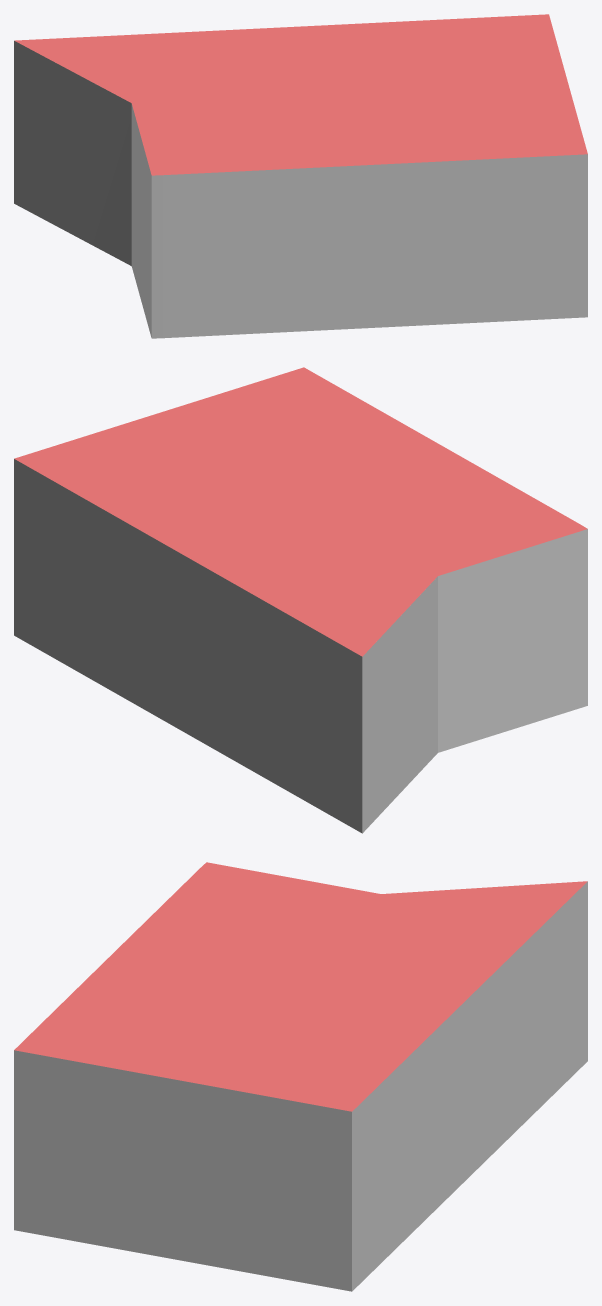
File: DEBY_LOD2_4908042.gltf
3 views of the same model, one above another, from view 1: azimuth 30°, elevation 25°; view 2: azimuth 150°, elevation 25°; view 3: azimuth 270°, elevation 25° (orthographic). The views are drawn at different scales.
Parts seen in each view (by area): view 1: Z_UP; view 2: Z_UP; view 3: Z_UP.
Part boxes in pixels (left/top/right/bottom): Z_UP: left=14, top=14, right=587, bottom=338; Z_UP: left=14, top=367, right=587, bottom=833; Z_UP: left=14, top=862, right=587, bottom=1291.
Bounding box in the file's own units: 7.91 × 2.66 × 7.69.
